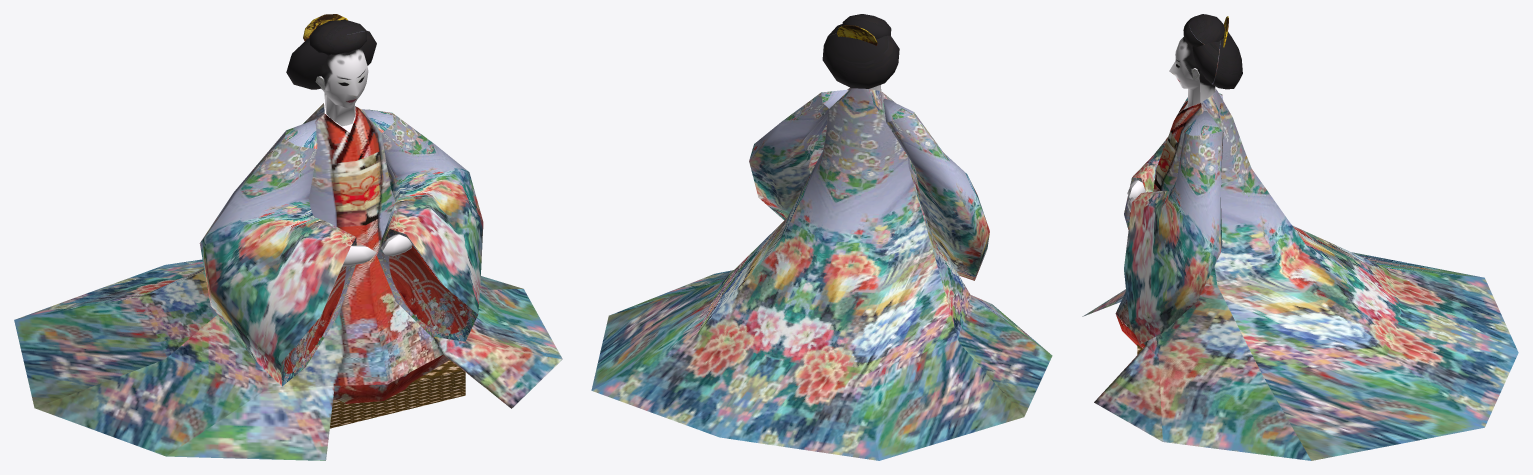
The model's file is GeishaSculpture1.a.fbx.
3 renders of one model, left to right at view 1: azimuth 30°, elevation 25°; view 2: azimuth 150°, elevation 25°; view 3: azimuth 270°, elevation 25°, orthographic. The views are drawn at different scales.
Visible parts, largest first — view 1: Group 0; view 2: Group 0; view 3: Group 0.
Part boxes in pixels (x1,y1,x2,y2): Group 0: (14, 14, 562, 460); Group 0: (591, 14, 1052, 460); Group 0: (1082, 14, 1518, 460).
Bounding box in the file's own units: 66.12 × 47.57 × 56.44.
1 material, 1 textured.
